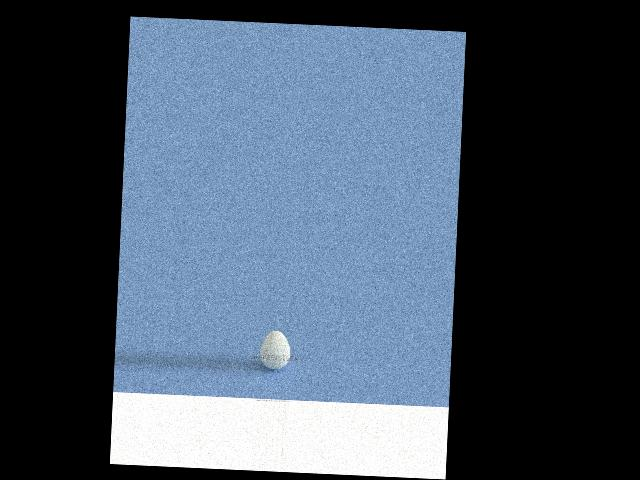egg: (259, 329, 291, 370)
